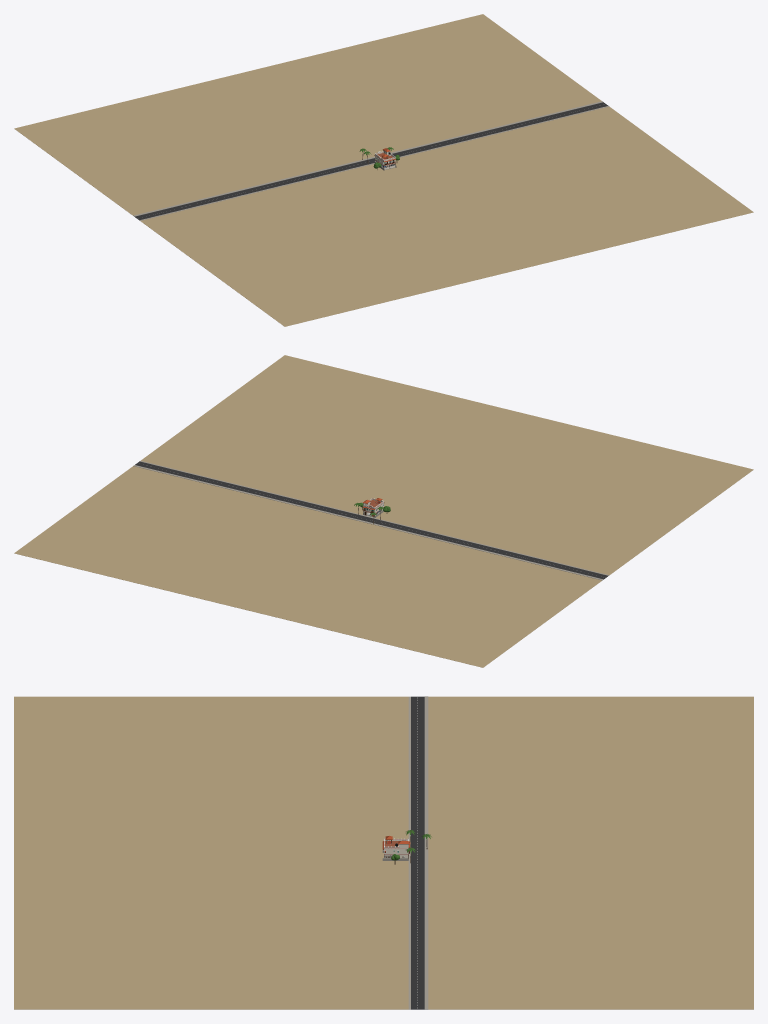
File: home_hotel.glb
3 views of the same model, one above another, from view 1: azimuth 30°, elevation 25°; view 2: azimuth 150°, elevation 25°; view 3: azimuth 270°, elevation 25° (orthographic). The views are drawn at different scales.
Visible parts, largest first — view 1: SITE__Earth, SITE__Asphalt, SITE__Concrete; view 2: SITE__Earth, SITE__Asphalt, SITE__Concrete; view 3: SITE__Earth, SITE__Asphalt, SITE__Concrete.
Part boxes in pixels (x1,y1,x2,y2): SITE__Earth: (14, 14, 753, 326); SITE__Asphalt: (135, 102, 608, 220); SITE__Concrete: (133, 101, 609, 220); SITE__Earth: (14, 355, 753, 667); SITE__Asphalt: (135, 461, 607, 579); SITE__Concrete: (133, 460, 609, 580); SITE__Earth: (14, 696, 753, 1009); SITE__Asphalt: (411, 696, 424, 1009); SITE__Concrete: (382, 696, 428, 1009).
Size of the model in its own units: 366 by 10.56 by 366.
